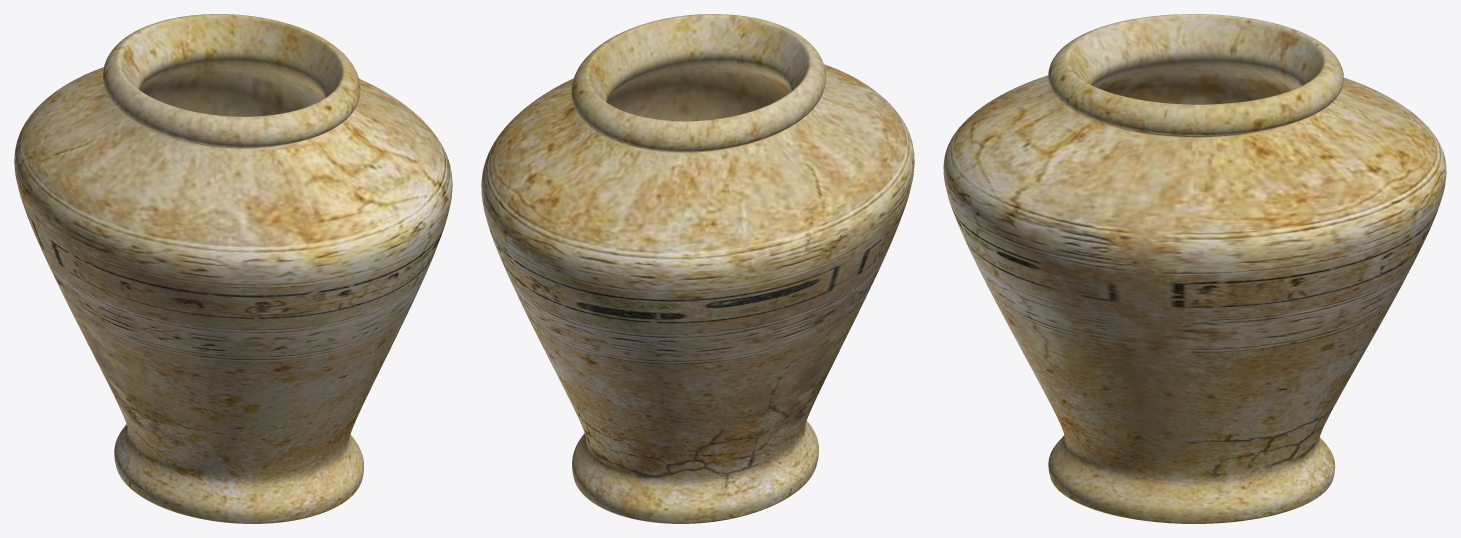
Rendered from jar.glb.
3 views of the same model, side by side, from view 1: azimuth 30°, elevation 25°; view 2: azimuth 150°, elevation 25°; view 3: azimuth 270°, elevation 25° (orthographic). The views are drawn at different scales.
Visible parts, largest first — view 1: Jar; view 2: Jar; view 3: Jar.
Boxes of the visible parts, x1,y1,x2,y2 form: Jar: [14, 14, 452, 523]; Jar: [481, 14, 914, 523]; Jar: [943, 14, 1446, 523].
Bounding box in the file's own units: 33.93 × 36.74 × 39.96.
1 material, 1 textured.
